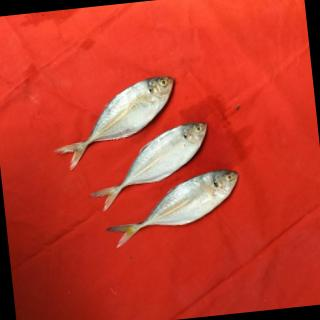Ikan: (98, 165, 250, 258), (49, 74, 186, 174), (80, 119, 219, 215)
